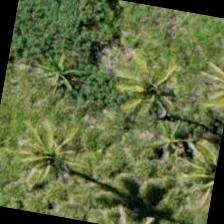Kelapa_Sawit: (98, 30, 202, 134), (0, 111, 103, 216)
